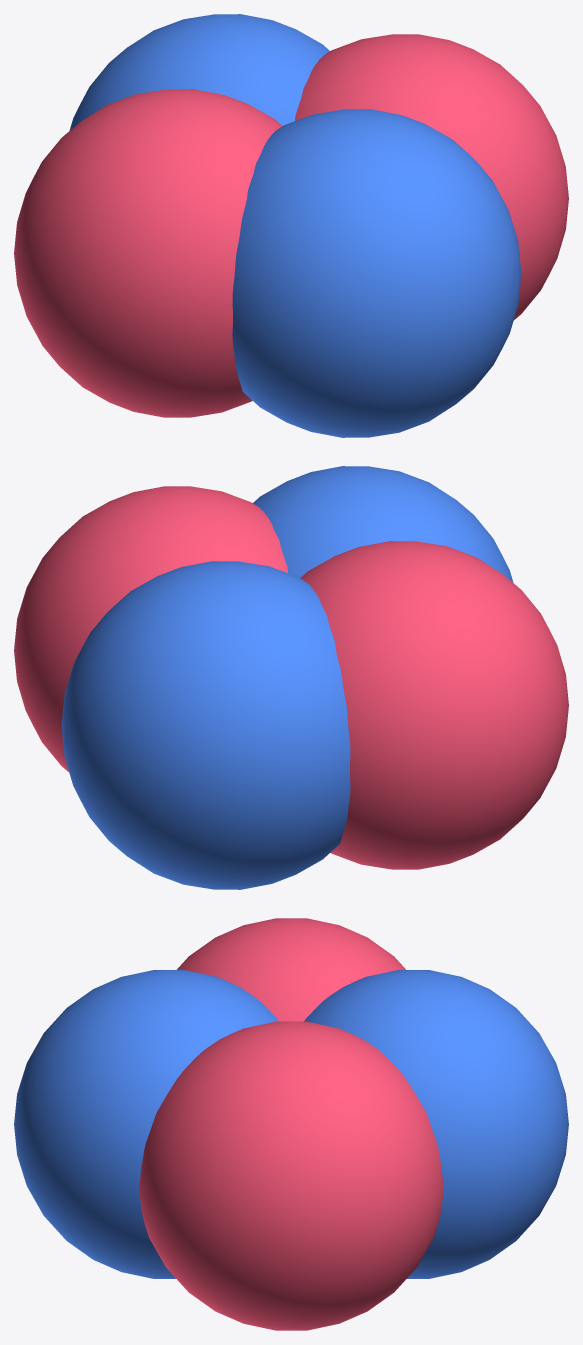
The model's file is alz.gltf.
The picture shows the model from 3 angles, top to bottom: view 1: azimuth 30°, elevation 25°; view 2: azimuth 150°, elevation 25°; view 3: azimuth 270°, elevation 25°; orthographic projection. The views are drawn at different scales.
Parts seen in each view (by area): view 1: GeoSphere005; view 2: GeoSphere005; view 3: GeoSphere005.
Part boxes in pixels (bbox=[...]): GeoSphere005: bbox=[14, 14, 568, 437]; GeoSphere005: bbox=[14, 466, 568, 889]; GeoSphere005: bbox=[14, 918, 568, 1330].
Size of the model in its own units: 4.53 by 2.54 by 4.54.
Materials: 2 (2 with a texture image).
